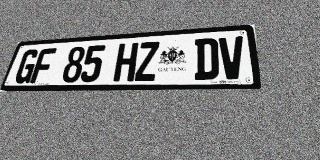5: (79, 45, 106, 82)
8: (60, 46, 87, 83)
D: (194, 38, 219, 80)
F: (30, 48, 57, 83)
G: (13, 49, 40, 84)
H: (113, 43, 139, 82)
V: (219, 36, 246, 79)
Z: (134, 41, 160, 81)
